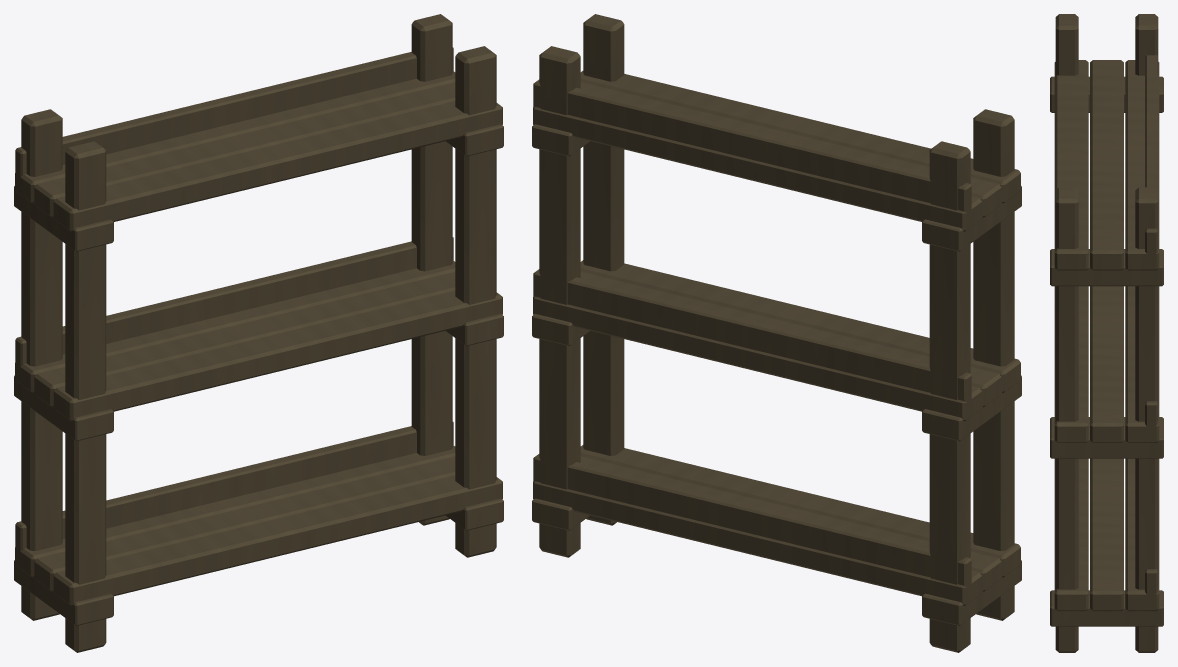
Rendered from WarrensC_CCS69_StorageShelf_Mars_SM.fbx.
3 views of the same model, side by side, from view 1: azimuth 30°, elevation 25°; view 2: azimuth 150°, elevation 25°; view 3: azimuth 270°, elevation 25° (orthographic). The views are drawn at different scales.
Visible parts, largest first — view 1: WarrensC_CCS69_StorageShelf_Mars_SM.001; view 2: WarrensC_CCS69_StorageShelf_Mars_SM.001; view 3: WarrensC_CCS69_StorageShelf_Mars_SM.001.
Part boxes in pixels (left/top/right/bottom): WarrensC_CCS69_StorageShelf_Mars_SM.001: left=14, top=14, right=503, bottom=652; WarrensC_CCS69_StorageShelf_Mars_SM.001: left=532, top=14, right=1021, bottom=652; WarrensC_CCS69_StorageShelf_Mars_SM.001: left=1050, top=14, right=1163, bottom=652.
Size of the model in its own units: 200 by 50 by 220.
